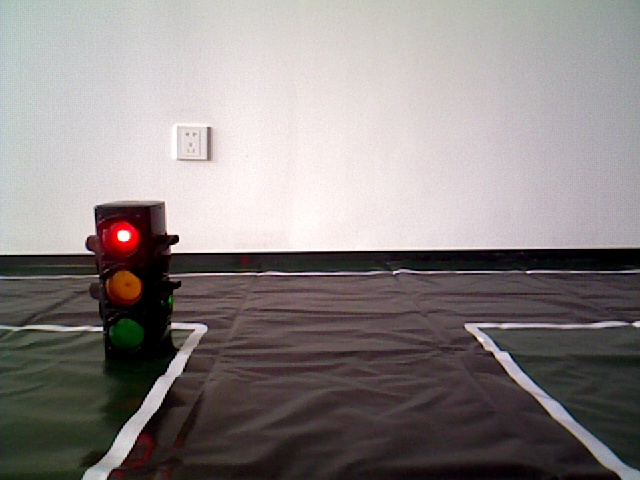red: (98, 209, 166, 362)
